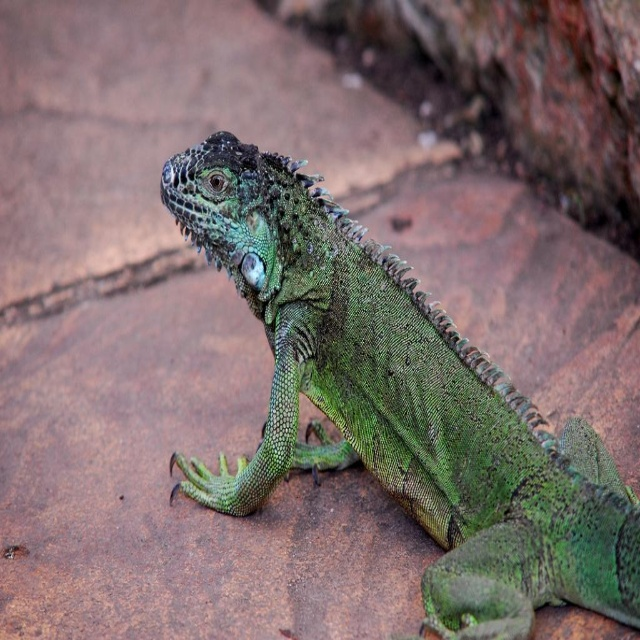Lizard: (160, 131, 640, 640)
